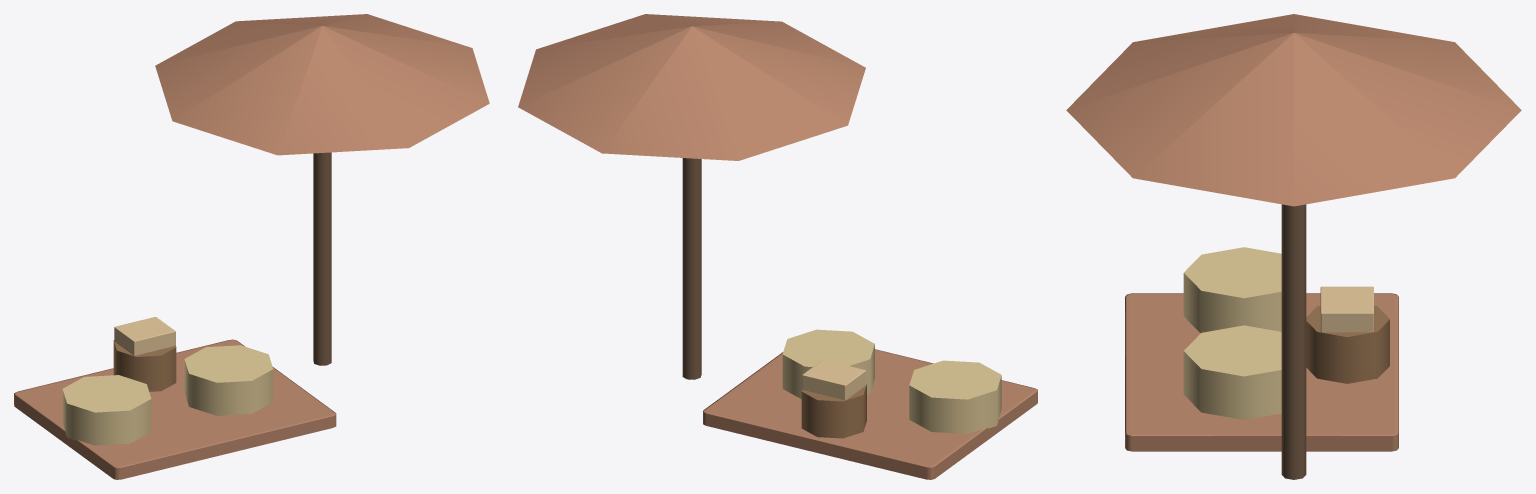
The model's file is summerparasol-0.glb.
3 views of the same model, side by side, from view 1: azimuth 30°, elevation 25°; view 2: azimuth 150°, elevation 25°; view 3: azimuth 270°, elevation 25° (orthographic). The views are drawn at different scales.
Parts seen in each view (by area): view 1: summerparasol-0-0; view 2: summerparasol-0-0; view 3: summerparasol-0-0.
Part boxes in pixels (x1,y1,x2,y2): summerparasol-0-0: (14,14,489,479); summerparasol-0-0: (518,14,1037,479); summerparasol-0-0: (1066,14,1521,479).
Bounding box in the file's own units: 1.81 × 1.39 × 1.28.
